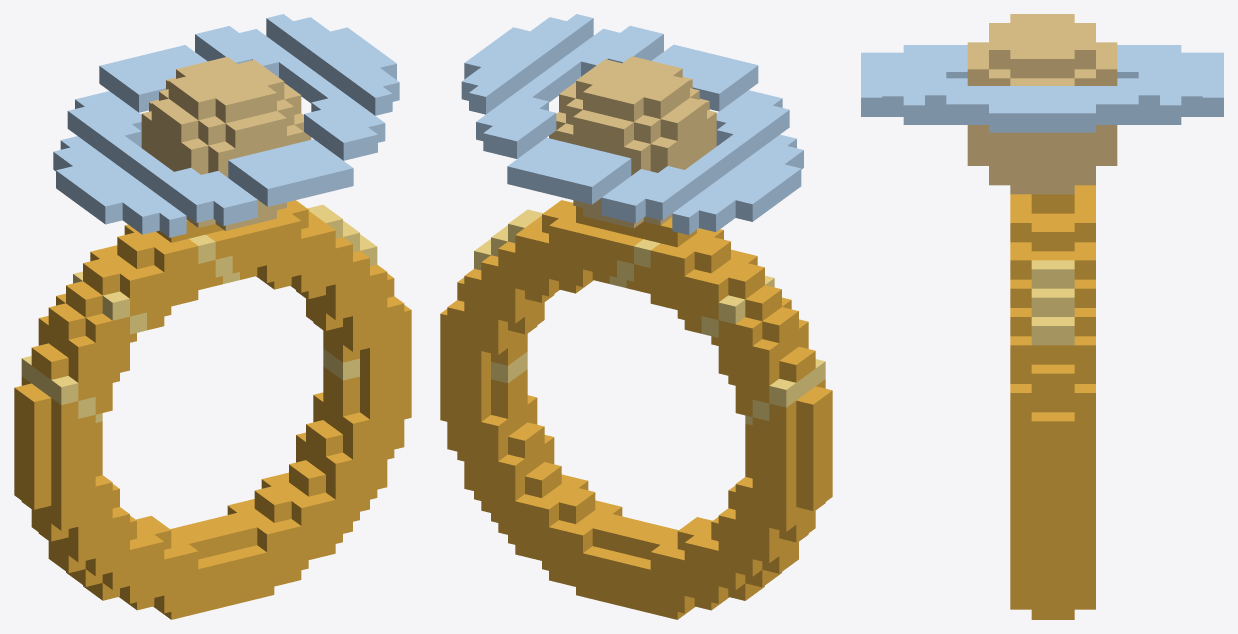
The model's file is recuerdo_01.obj.
3 renders of one model, left to right at view 1: azimuth 30°, elevation 25°; view 2: azimuth 150°, elevation 25°; view 3: azimuth 270°, elevation 25°, orthographic. The views are drawn at different scales.
Visible parts, largest first — view 1: anillo_oro, saturno_anillo_hielo, saturno, anillo_oro_brillo; view 2: anillo_oro, saturno_anillo_hielo, saturno, anillo_oro_brillo, engaste_oro; view 3: anillo_oro, saturno_anillo_hielo, saturno, anillo_oro_brillo, engaste_oro.
Part boxes in pixels (x1,y1,x2,y2): anillo_oro: [14, 200, 411, 619]; saturno_anillo_hielo: [53, 14, 399, 237]; saturno: [141, 56, 311, 230]; anillo_oro_brillo: [21, 204, 377, 422]; anillo_oro: [440, 200, 832, 619]; saturno_anillo_hielo: [461, 14, 803, 234]; saturno: [549, 56, 716, 228]; anillo_oro_brillo: [474, 209, 825, 425]; engaste_oro: [576, 206, 696, 247]; anillo_oro: [1010, 185, 1095, 619]; saturno_anillo_hielo: [861, 45, 1223, 132]; saturno: [967, 14, 1117, 194]; anillo_oro_brillo: [1031, 260, 1074, 345]; engaste_oro: [1031, 194, 1074, 213].
Bounding box in the file's own units: 0.88 × 1.16 × 0.68.
